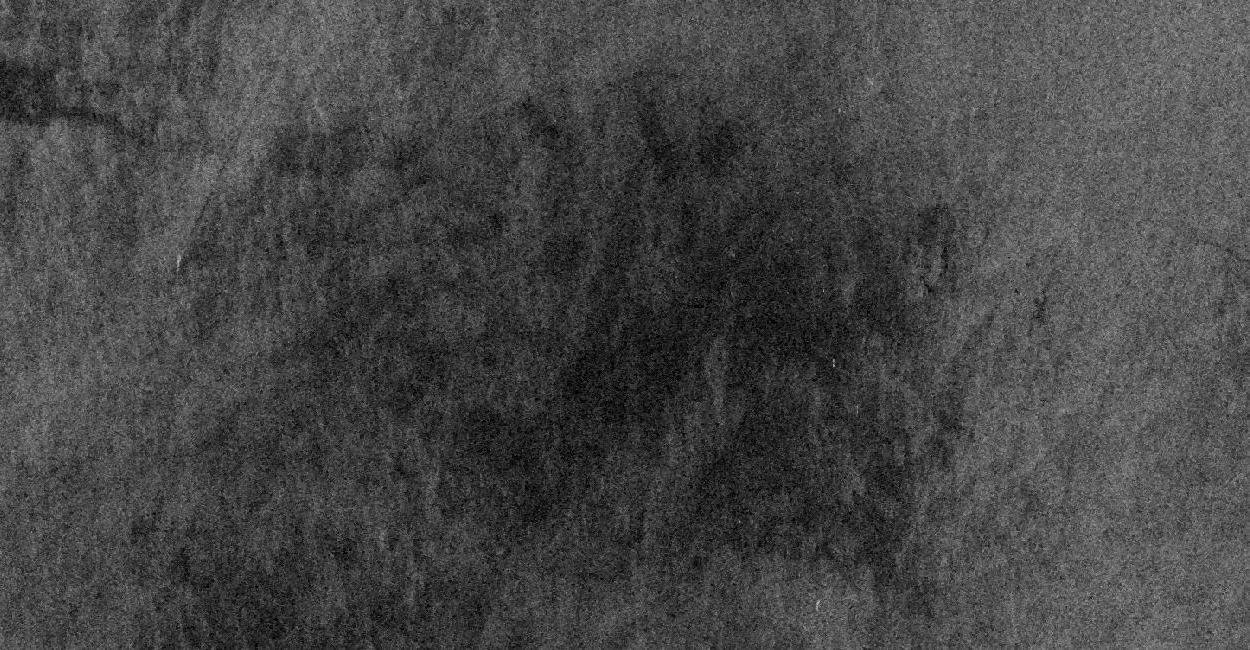Look-alike: (158, 64, 956, 650)
